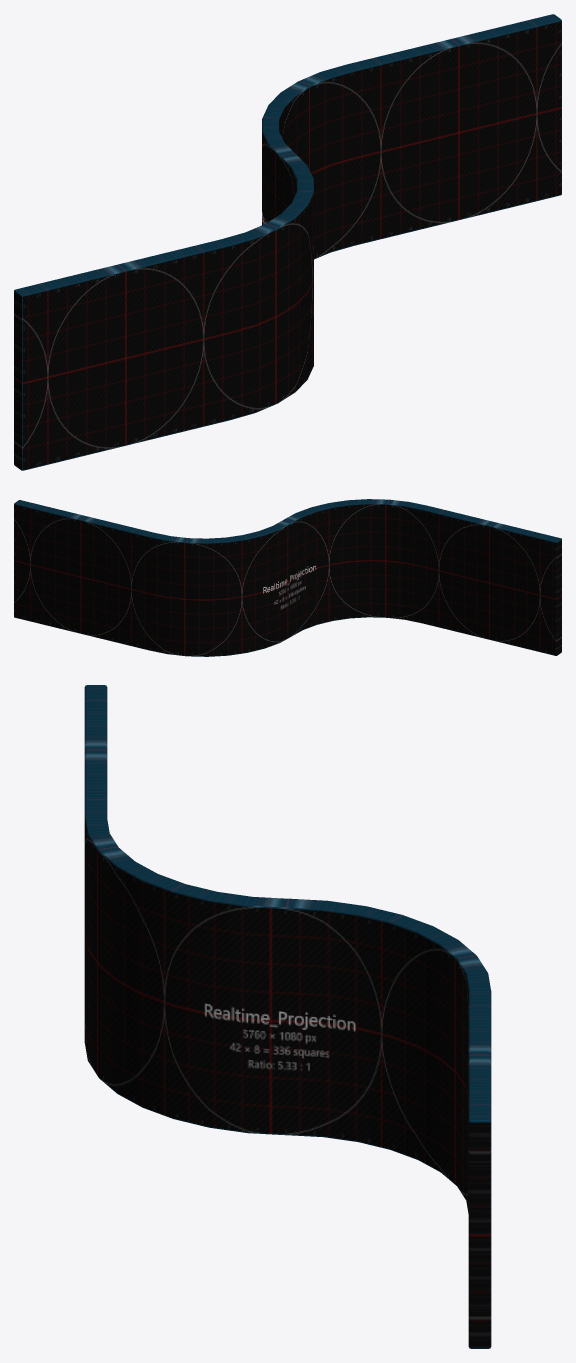
Rendered from curved_wall_S_v7.glb.
3 renders of one model, top to bottom at view 1: azimuth 30°, elevation 25°; view 2: azimuth 150°, elevation 25°; view 3: azimuth 270°, elevation 25°, orthographic. The views are drawn at different scales.
Visible parts, largest first — view 1: S_Curve_Wall; view 2: S_Curve_Wall; view 3: S_Curve_Wall.
Part boxes in pixels (x1,y1,x2,y2): S_Curve_Wall: (14,14,561,470); S_Curve_Wall: (14,499,561,656); S_Curve_Wall: (84,685,491,1348).
Size of the model in its own units: 4.09 by 1 by 1.61.
1 material, 1 textured.
